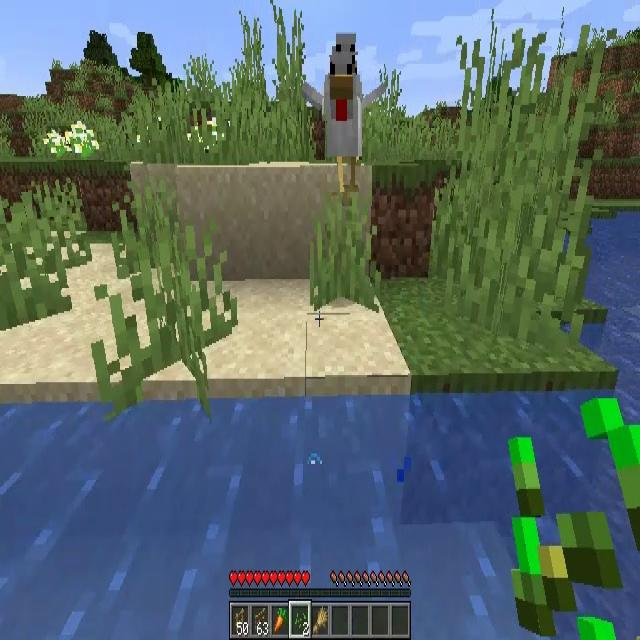duck: (325, 55, 362, 192)
